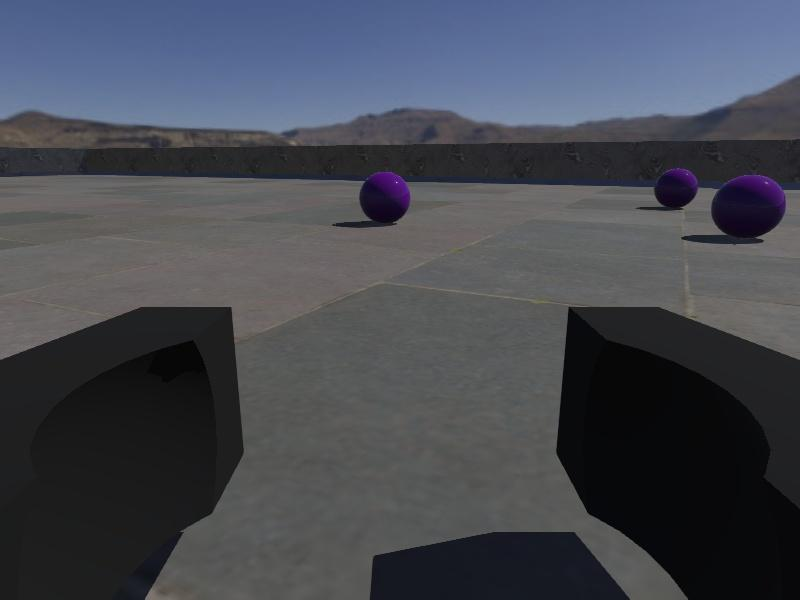violet ball: (712, 172, 788, 240), (359, 171, 411, 225), (653, 168, 698, 209)
